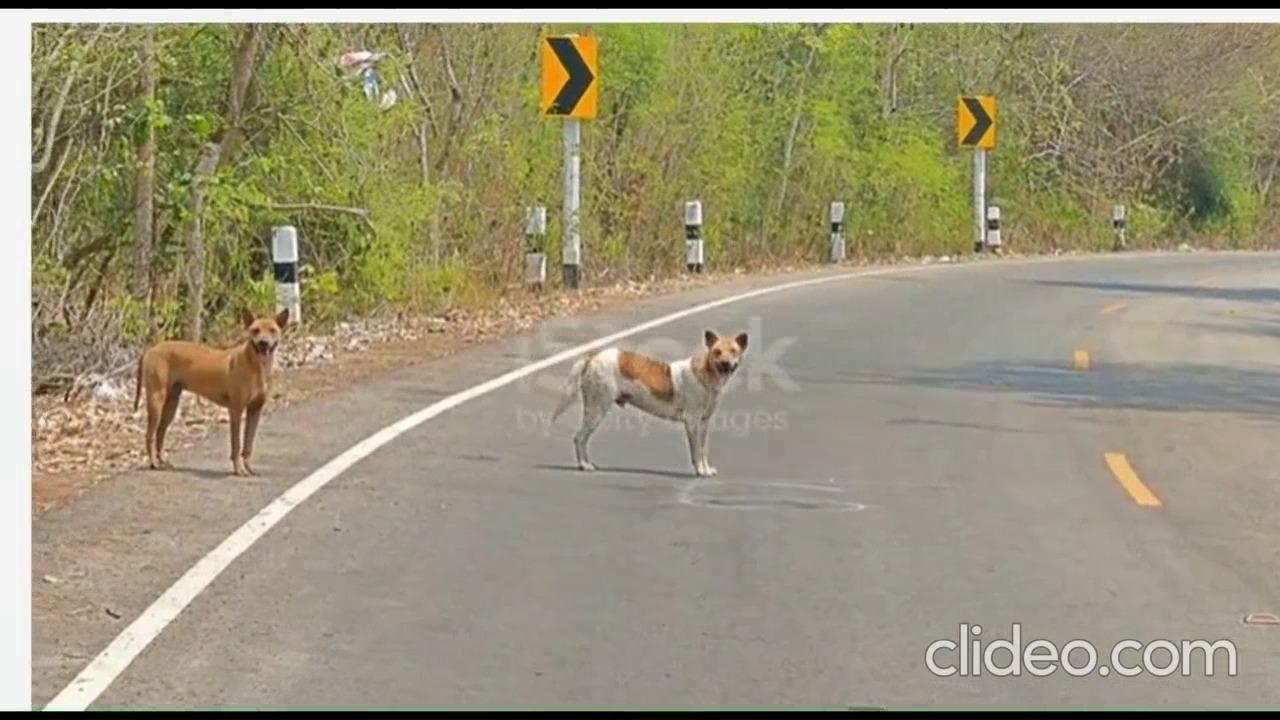dog: (555, 331, 756, 483), (127, 307, 292, 469)
